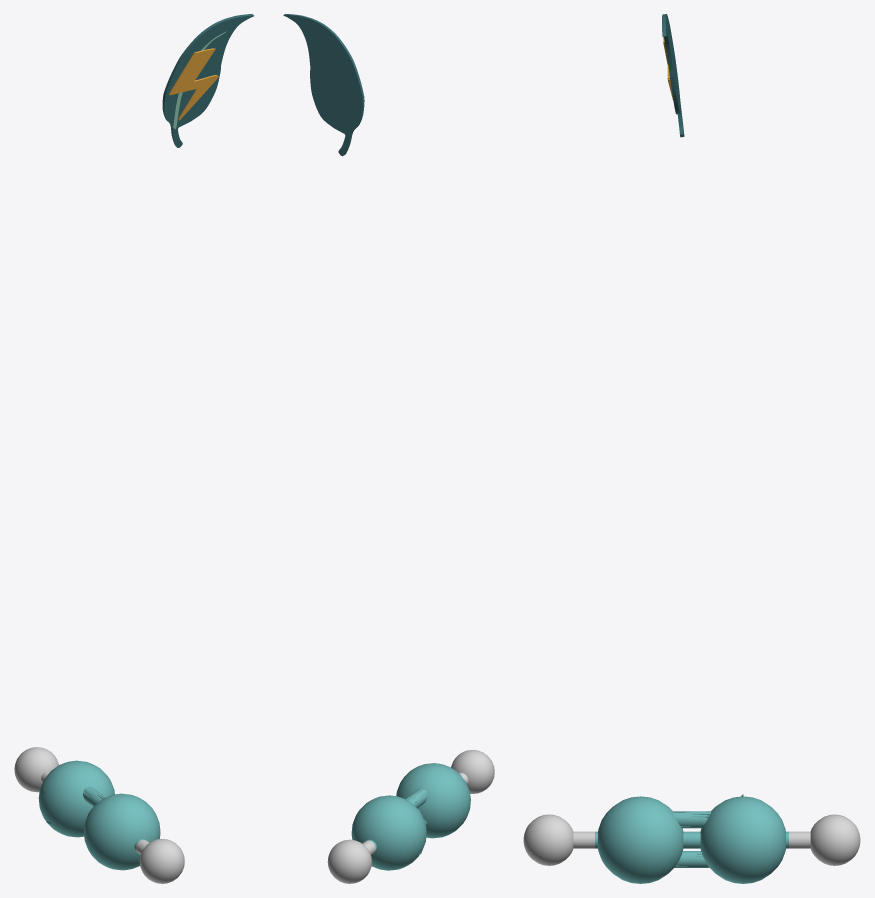
3 views of the same model, side by side, from view 1: azimuth 30°, elevation 25°; view 2: azimuth 150°, elevation 25°; view 3: azimuth 270°, elevation 25° (orthographic). The views are drawn at different scales.
Visible parts, largest first — view 1: path182, path186; view 2: path182; view 3: path182.
Boxes of the visible parts, x1,y1,x2,y2 form: path182: (162, 14, 254, 147); path186: (169, 48, 218, 120); path182: (283, 14, 364, 156); path182: (662, 14, 684, 137).
Bounding box in the file's own units: 1.23 × 5.37 × 1.77.
